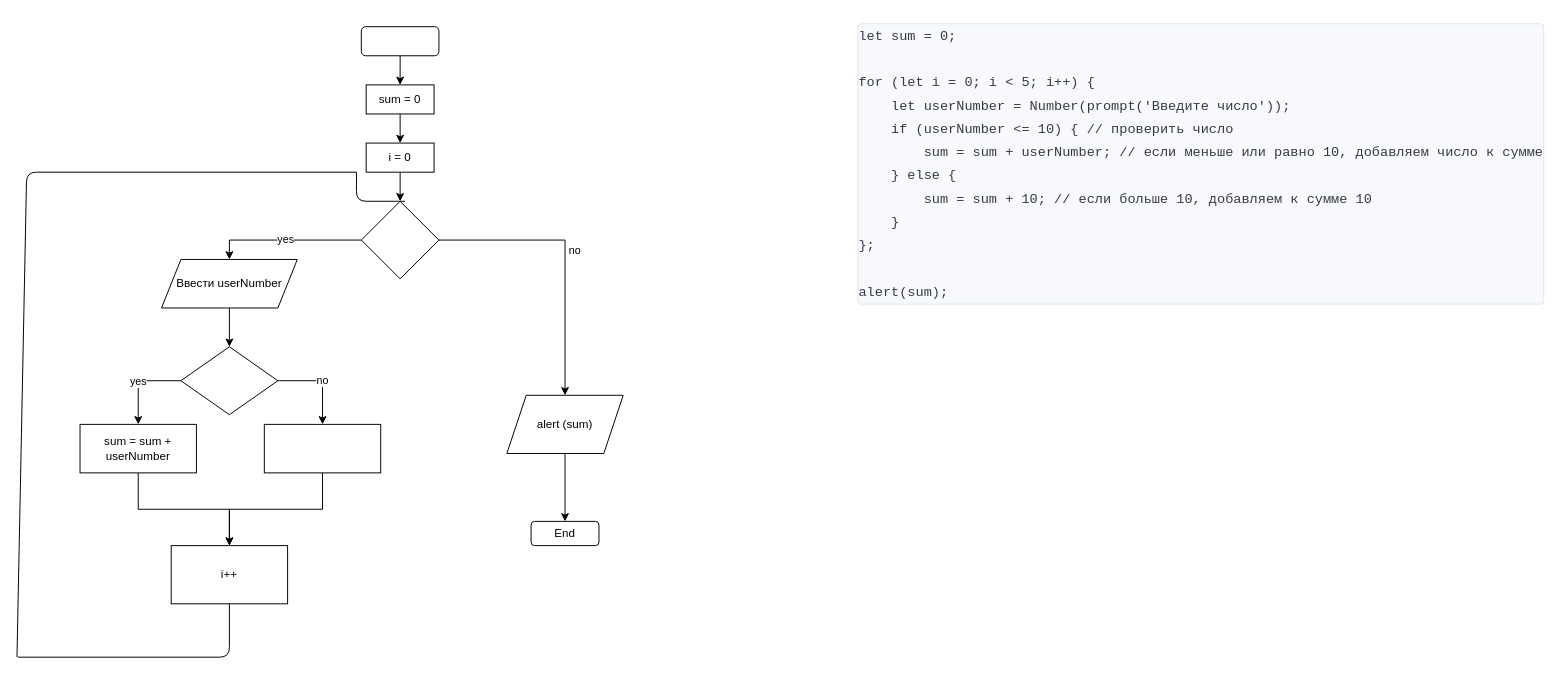
The diagram is 1562 pixels wide and 675 high, and some of its shapes have lost their labels. The centre of each missing label's shape, as x and y in pixels:
"i < 5" goes at [399,239].
"Start" goes at [399,41].
"sum = sum + 10" goes at [322,448].
"userNumber <= 10" goes at [229,380].
